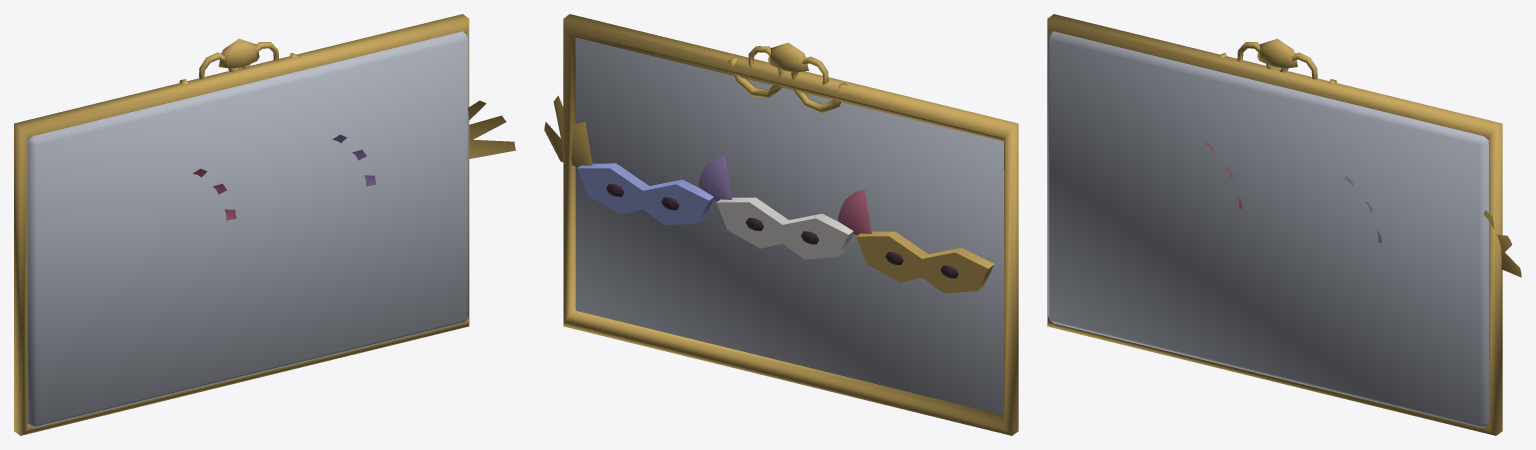
The model's file is mask_display.glb.
3 views of the same model, side by side, from view 1: azimuth 30°, elevation 25°; view 2: azimuth 150°, elevation 25°; view 3: azimuth 330°, elevation 25° (orthographic).
Parts seen in each view (by area): view 1: mask_display; view 2: mask_display; view 3: mask_display.
Part boxes in pixels (bbox=[...]): mask_display: bbox=[14, 14, 515, 435]; mask_display: bbox=[544, 14, 1018, 435]; mask_display: bbox=[1047, 14, 1521, 435].
Size of what is drawn, in the model's own units: 1.2 by 0.8 by 0.1.
